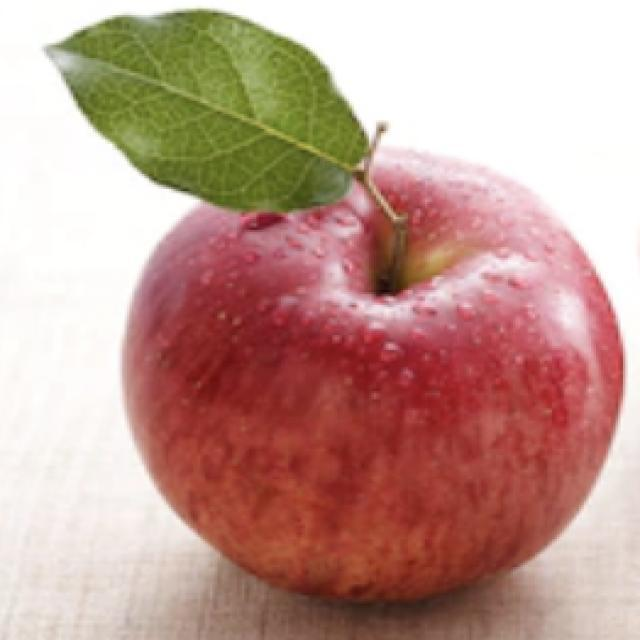Fresh Apple: (125, 140, 628, 603)
